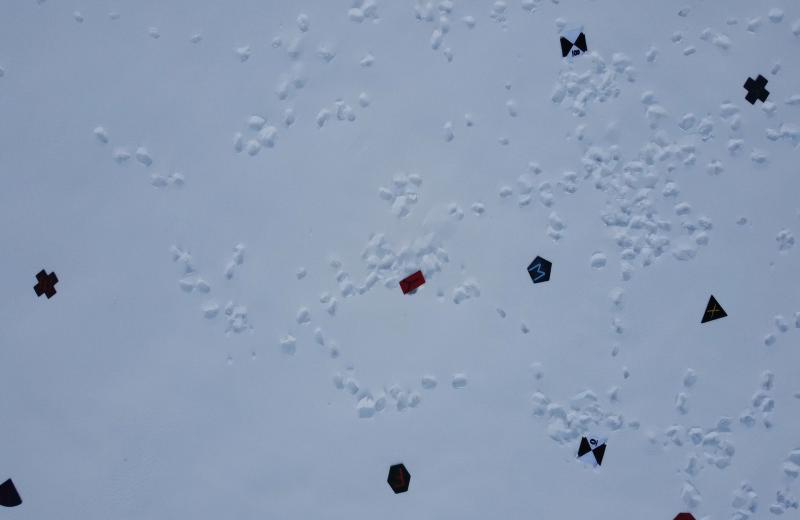Cross: (739, 72, 774, 108), (31, 265, 62, 302)
Hexagon: (383, 458, 415, 498)
Pentagon: (525, 252, 558, 288)
Quarter Circle: (0, 475, 24, 510)
Rectangle: (394, 264, 430, 302)
Triangle: (697, 289, 731, 331)
